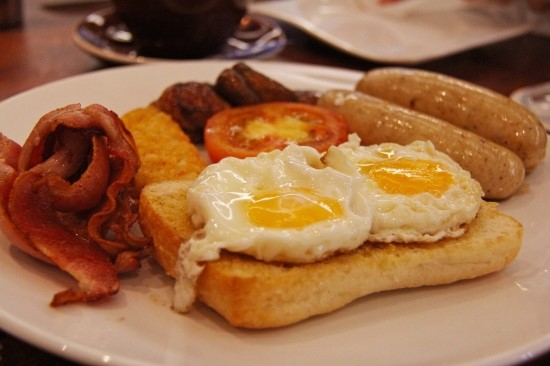fried egg: (201, 159, 347, 255), (341, 147, 472, 233)
slice of bread: (163, 238, 526, 336)
